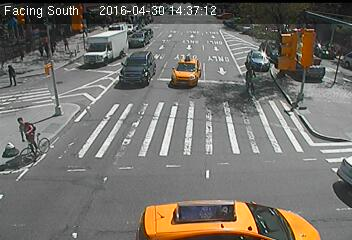neg: (6, 110, 46, 164), (236, 63, 261, 95), (135, 58, 155, 85), (204, 124, 224, 151), (315, 122, 333, 146), (54, 201, 71, 223), (180, 56, 196, 78), (256, 194, 271, 215), (179, 7, 194, 27), (115, 144, 130, 164), (70, 74, 84, 93), (299, 24, 311, 40)
pos: (29, 37, 47, 61), (1, 60, 18, 85), (14, 41, 29, 63), (59, 33, 72, 51), (49, 36, 60, 51), (42, 39, 52, 54)
